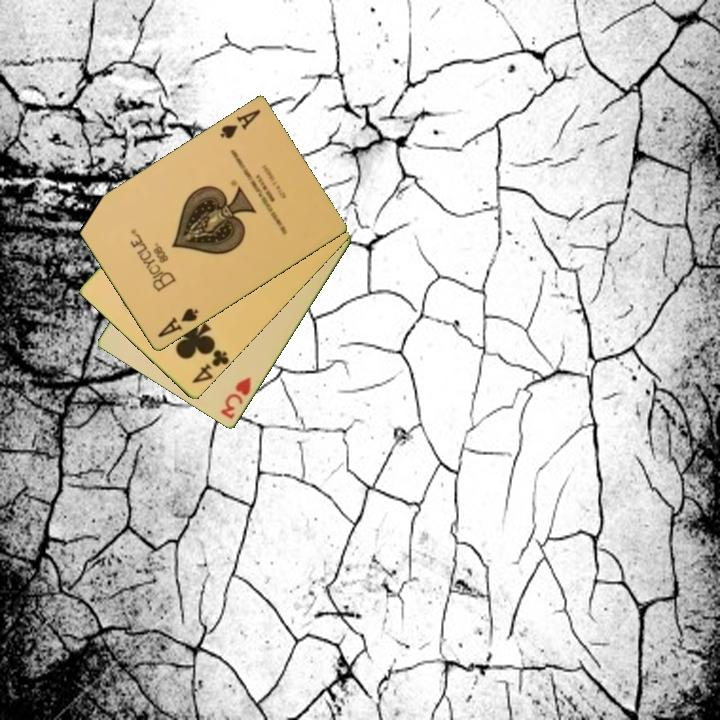3h: (217, 374, 254, 423)
4c: (188, 346, 232, 387)
As: (154, 305, 202, 341), (216, 106, 263, 142)
